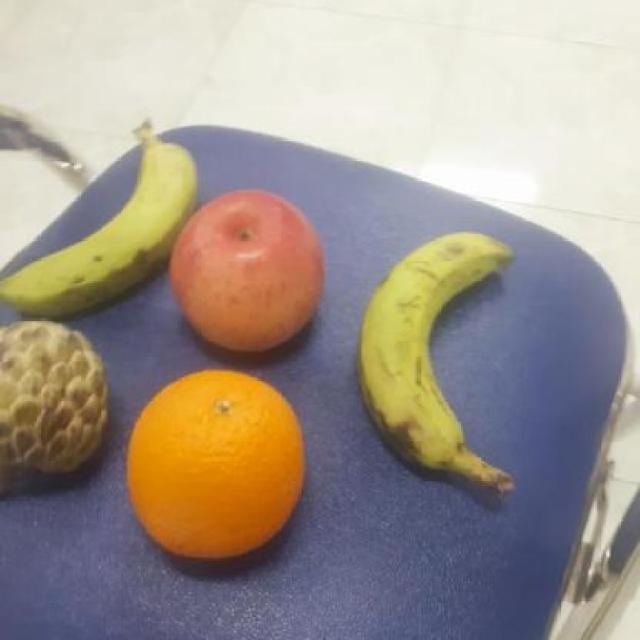apple: (169, 184, 326, 356)
banana: (352, 228, 516, 470), (1, 128, 201, 322)
oren: (125, 365, 304, 563)
sugar apple: (0, 316, 114, 475)
